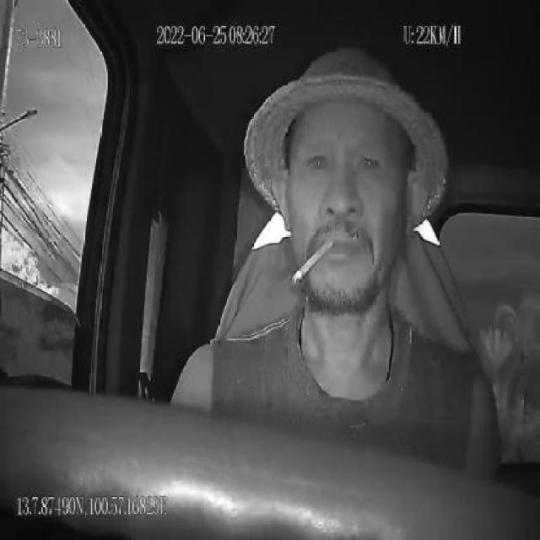smoking: (295, 234, 334, 284)
